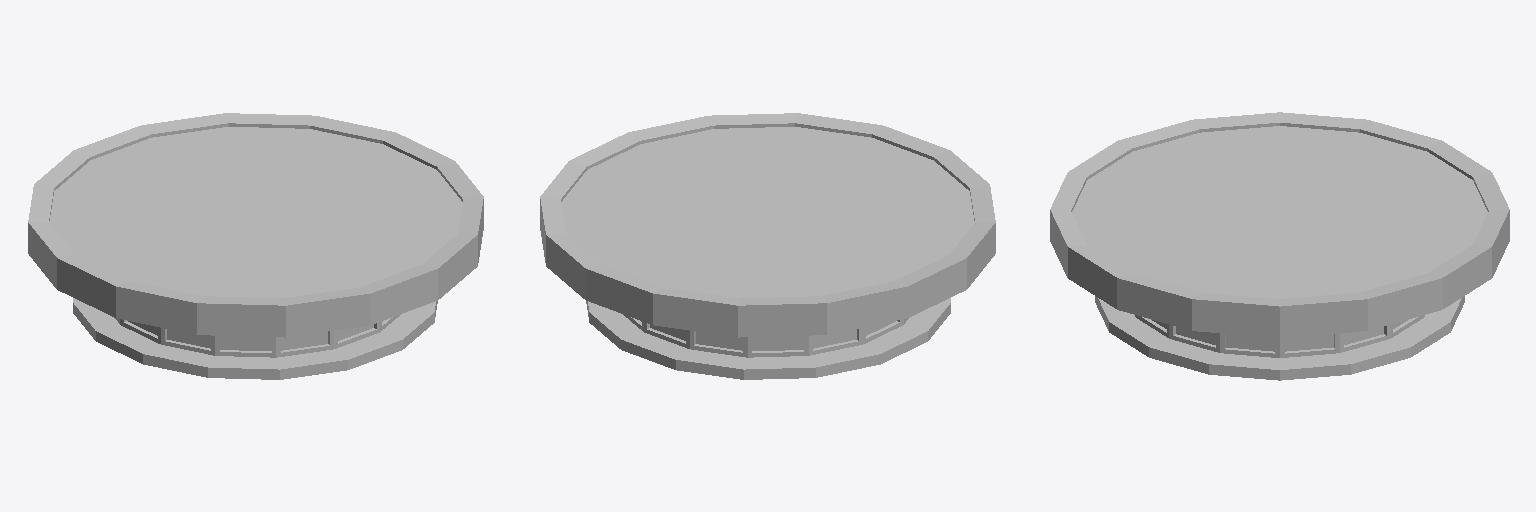
Rendered from poker table.obj.
The picture shows the model from 3 angles: view 1: azimuth 30°, elevation 25°; view 2: azimuth 150°, elevation 25°; view 3: azimuth 270°, elevation 25°; orthographic projection.
Visible parts, largest first — view 1: Cylinder; view 2: Cylinder; view 3: Cylinder.
Boxes of the visible parts, x1=… form: Cylinder: x1=28, y1=113, x2=483, y2=379; Cylinder: x1=540, y1=113, x2=995, y2=379; Cylinder: x1=1050, y1=112, x2=1509, y2=380.
Size of the model in its own units: 9.95 by 2.22 by 9.95.